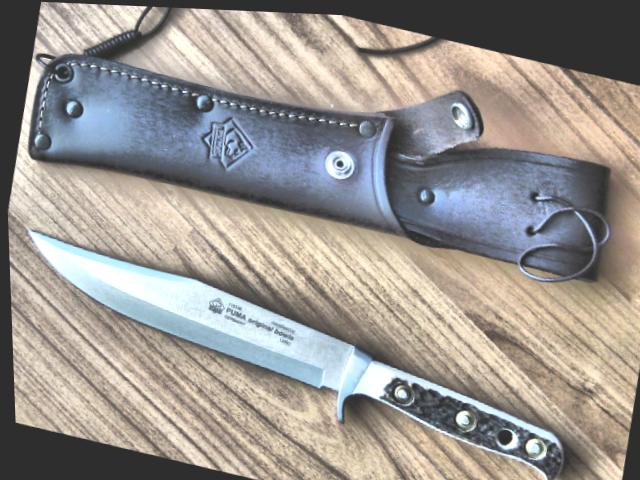knife: (6, 216, 385, 434)
